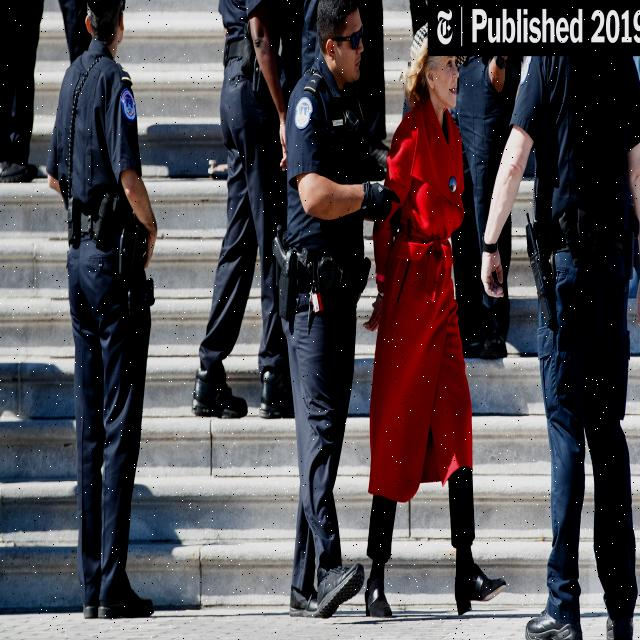police: (486, 0, 640, 640), (50, 0, 187, 623), (258, 0, 382, 640)
